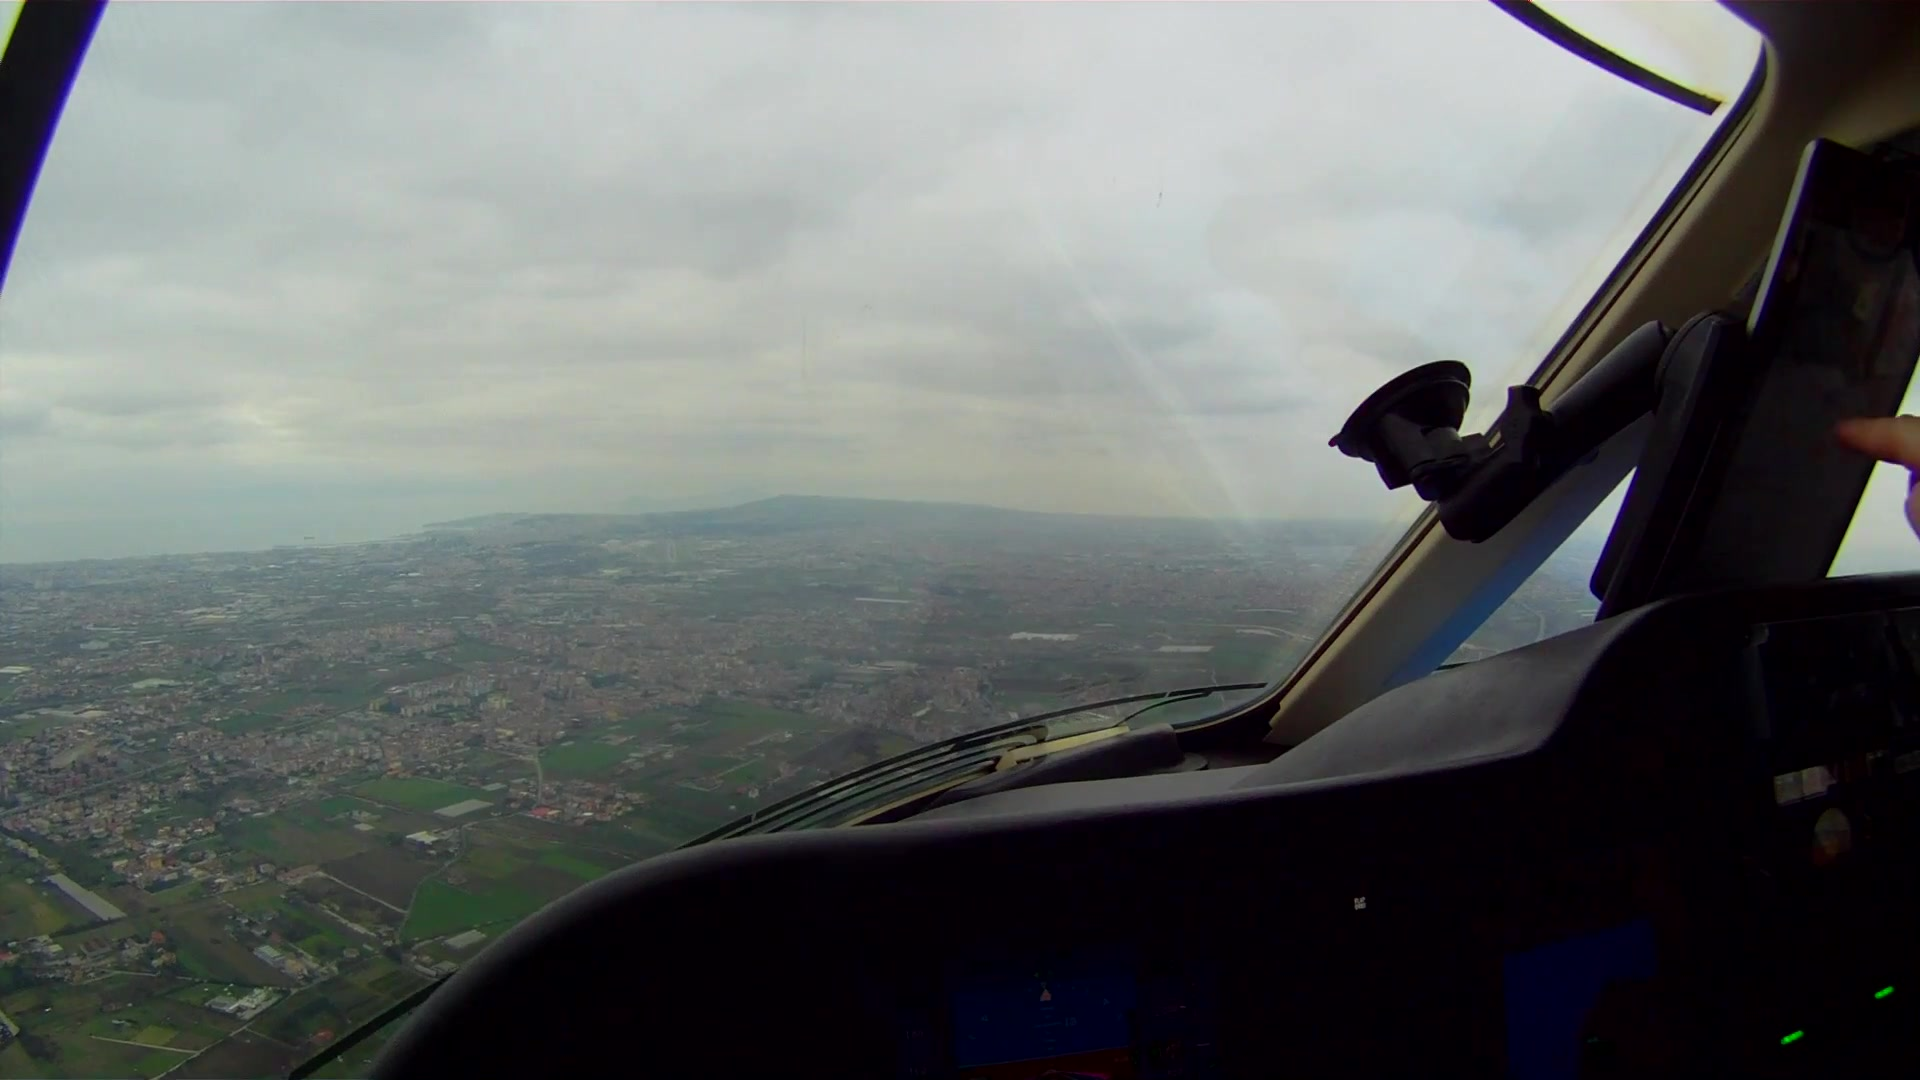runway: (665, 535, 679, 562)
